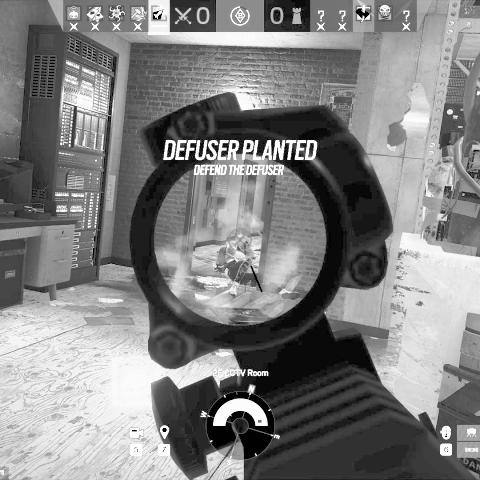Character: (214, 234, 300, 302)
Head: (234, 235, 252, 252)
